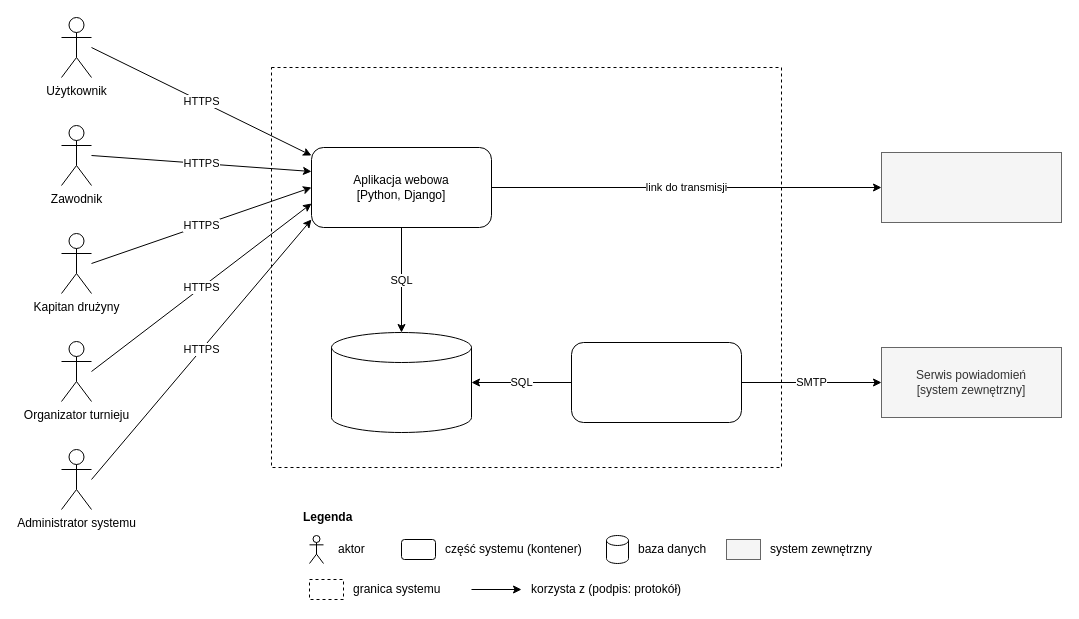
Some shapes in this 1079 by 619 pixel diagram are drawn without their labels. The box of each missing label's shape, as (x1, y1, x2, y2) in pixels:
Baza danych [PostgreSQL]: (330, 332, 472, 432)
Platforma streamingowa [system zewnętrzny]: (880, 152, 1062, 222)
System zarządzania turniejem e-sportowym: (270, 66, 782, 468)
Zadania w tle [Python, Django]: (570, 342, 742, 422)
